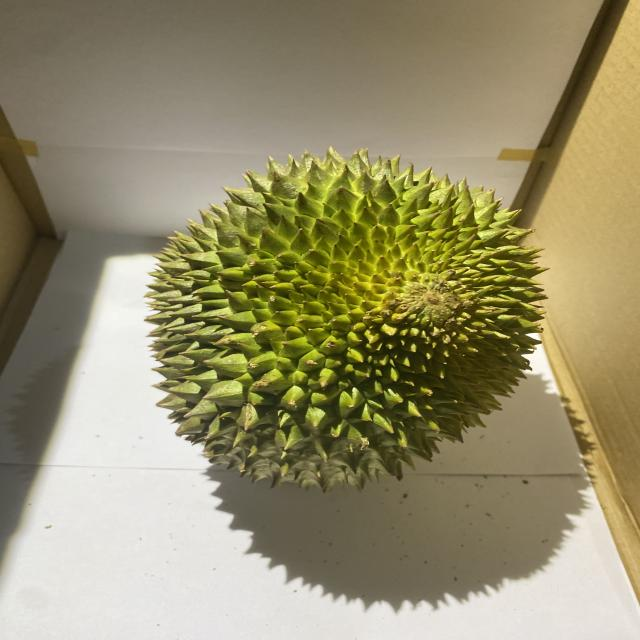immature: (137, 148, 551, 492)
